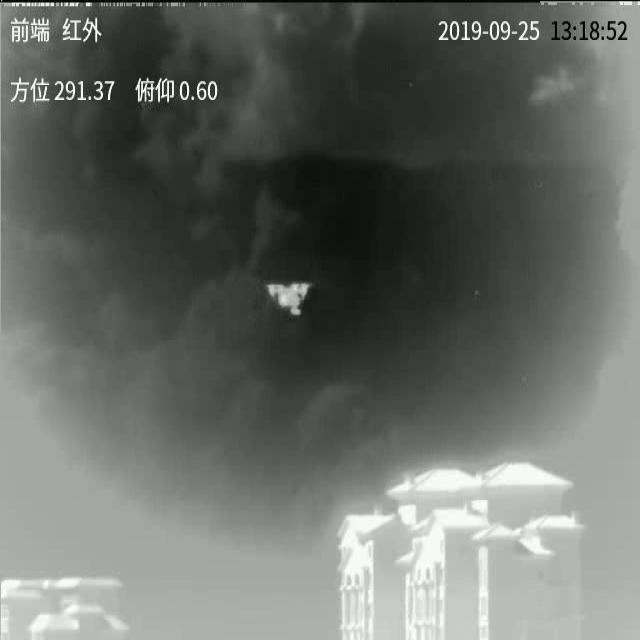drone: (266, 283, 312, 316)
